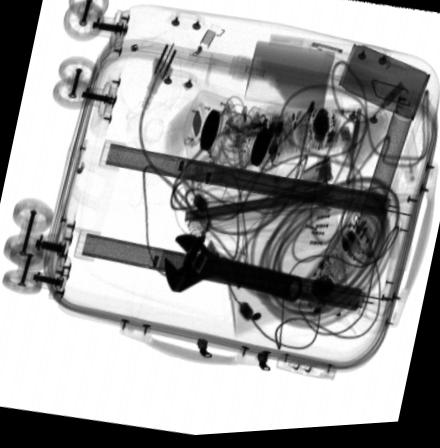Wrench: (164, 236, 302, 306)
